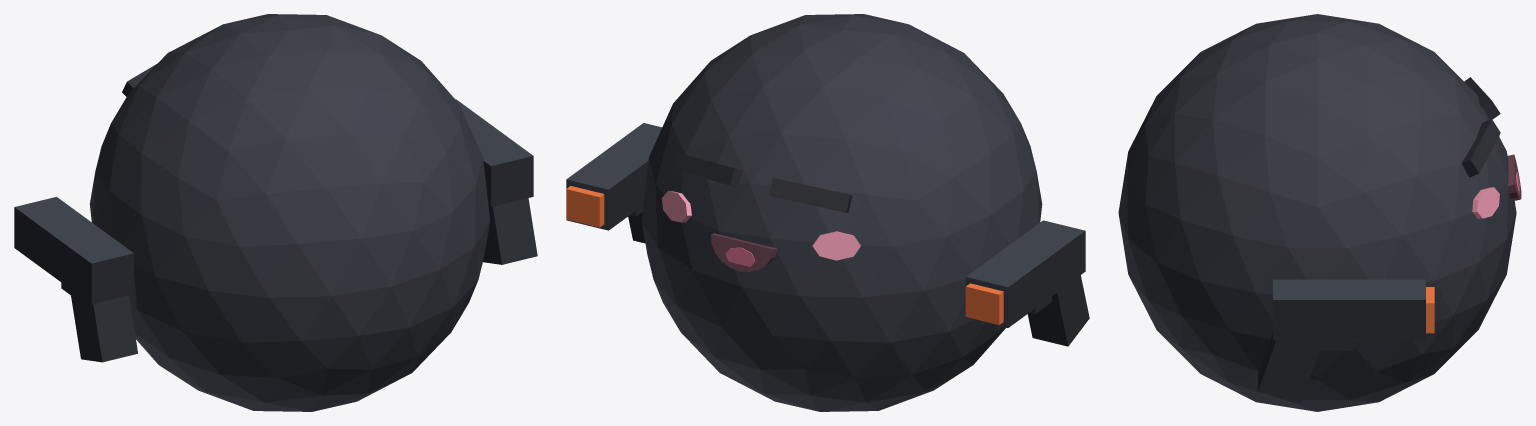
Rendered from CH_Mermo_T1_Blink.fbx.
The picture shows the model from 3 angles, left to right: view 1: azimuth 30°, elevation 25°; view 2: azimuth 150°, elevation 25°; view 3: azimuth 270°, elevation 25°; orthographic projection.
Parts seen in each view (by area): view 1: CH_Mermo_T1_Blink; view 2: CH_Mermo_T1_Blink; view 3: CH_Mermo_T1_Blink.
Boxes of the visible parts, x1,y1,x2,y2 form: CH_Mermo_T1_Blink: (14,14,537,411); CH_Mermo_T1_Blink: (566,14,1089,411); CH_Mermo_T1_Blink: (1118,14,1521,411).
Size of the model in its own units: 1.27 by 1 by 1.01.
